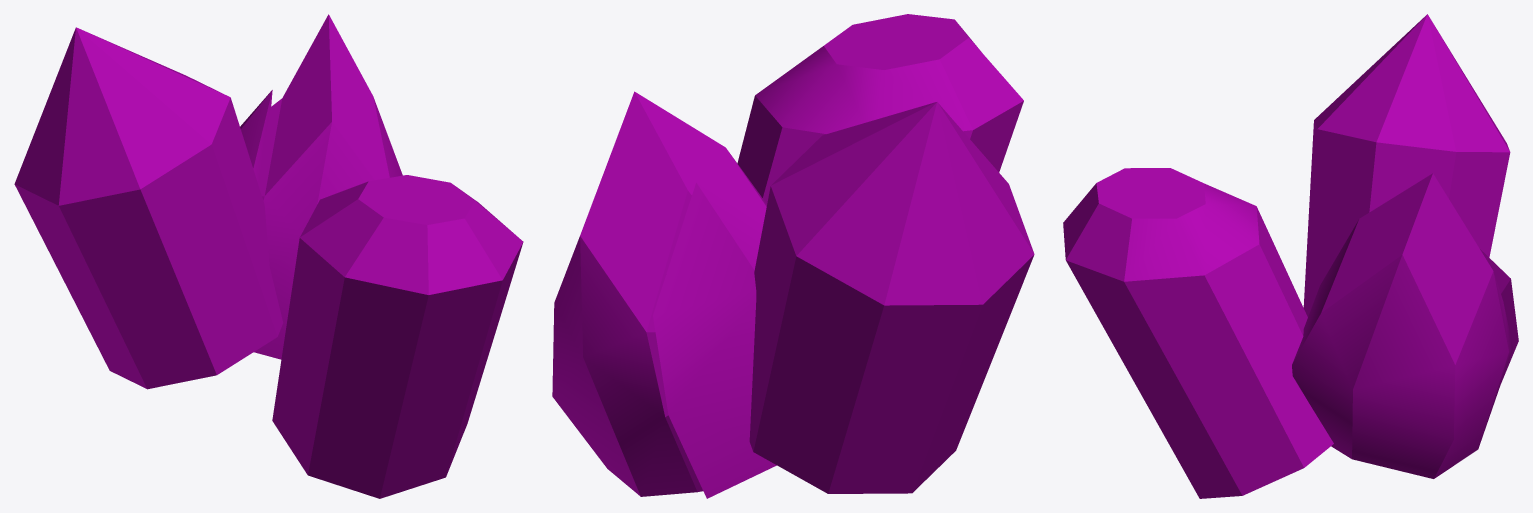
Rendered from Crystals_Small.fbx.
3 views of the same model, side by side, from view 1: azimuth 30°, elevation 25°; view 2: azimuth 150°, elevation 25°; view 3: azimuth 270°, elevation 25° (orthographic). The views are drawn at different scales.
Visible parts, largest first — view 1: CrystalA, CrystalB, CrystalC; view 2: CrystalA, CrystalC, CrystalB; view 3: CrystalB, CrystalC, CrystalA.
Boxes of the visible parts, x1=… form: CrystalA: x1=14, y1=27, x2=283, y2=389; CrystalB: x1=272, y1=175, x2=523, y2=498; CrystalC: x1=240, y1=14, x2=402, y2=359; CrystalA: x1=749, y1=102, x2=1034, y2=493; CrystalC: x1=552, y1=91, x2=776, y2=498; CrystalB: x1=737, y1=14, x2=1023, y2=204; CrystalB: x1=1063, y1=168, x2=1333, y2=498; CrystalC: x1=1292, y1=173, x2=1518, y2=478; CrystalA: x1=1303, y1=14, x2=1510, y2=316.
Bounding box in the file's own units: 1.37 × 1.52 × 1.64.
